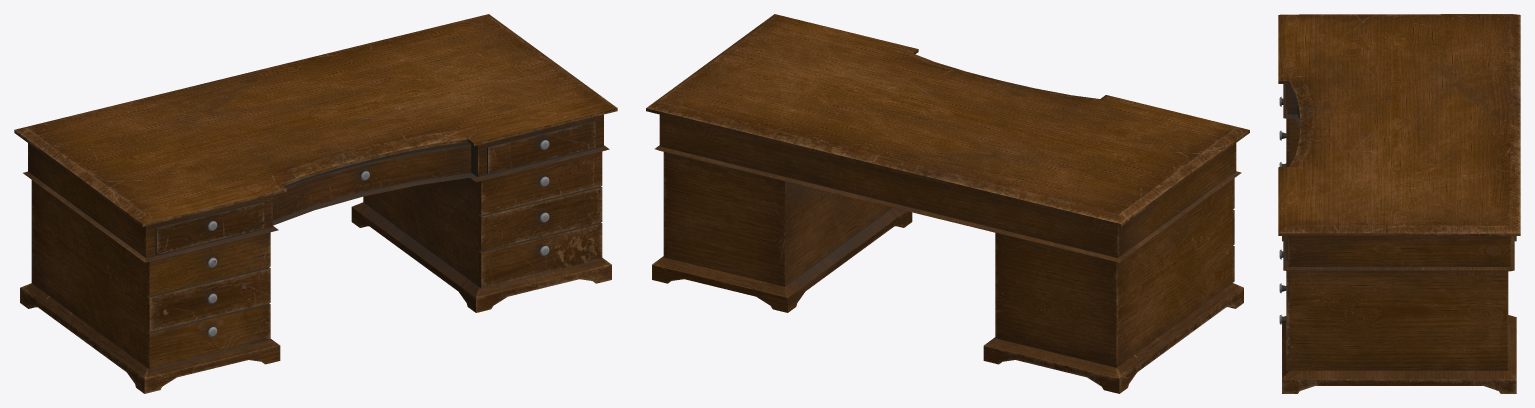
The picture shows the model from 3 angles, left to right: view 1: azimuth 30°, elevation 25°; view 2: azimuth 150°, elevation 25°; view 3: azimuth 270°, elevation 25°; orthographic projection. The views are drawn at different scales.
Visible parts, largest first — view 1: Disc_4; view 2: Disc_4; view 3: Disc_4.
Part boxes in pixels (box(x1,y1,x2,y2)): Disc_4: box(14, 14, 617, 393); Disc_4: box(646, 14, 1249, 393); Disc_4: box(1278, 14, 1520, 393).
Bounding box in the file's own units: 2.27 × 0.8071 × 1.07.
Materials: 1 (1 with a texture image).
